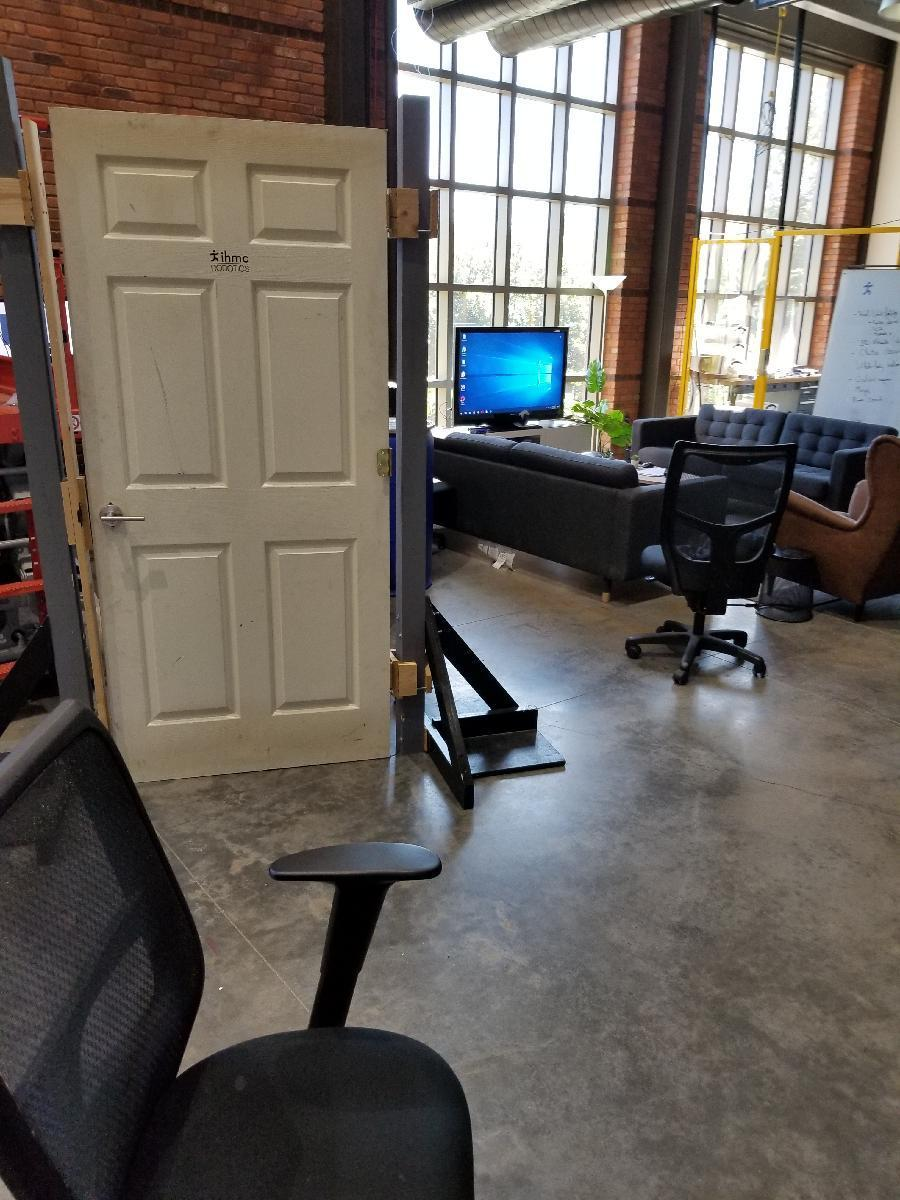door: (78, 111, 392, 780)
handle: (97, 500, 147, 535)
